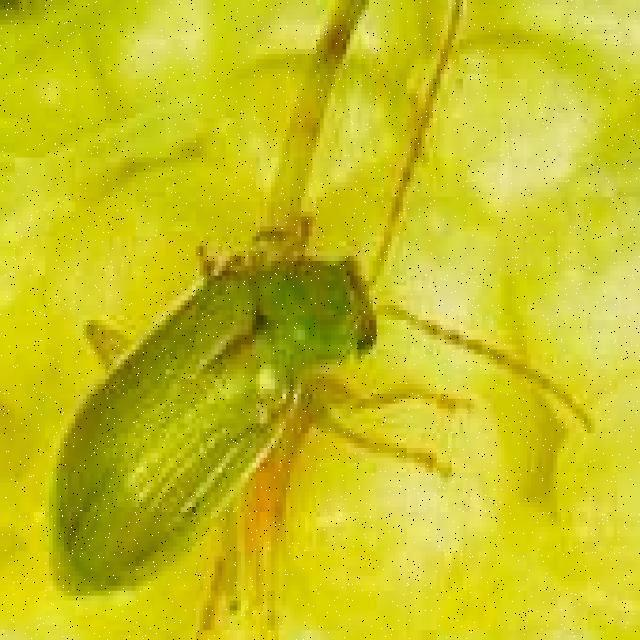gusano_gris: (46, 0, 595, 598)
